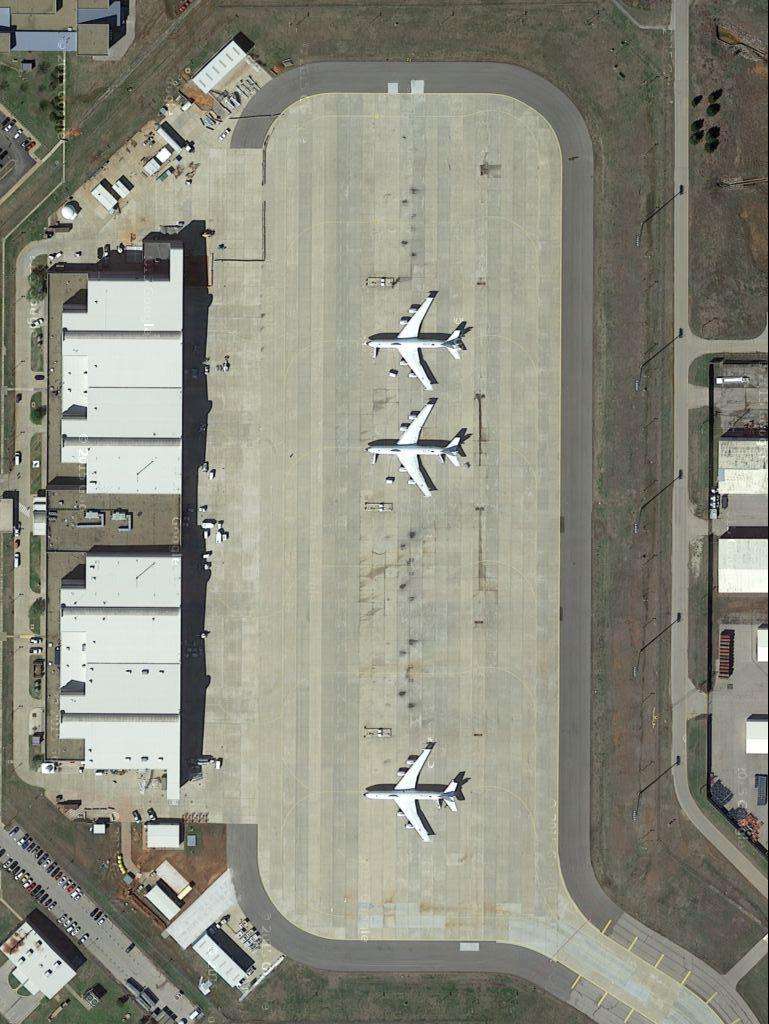E-8: (362, 740, 469, 848), (364, 395, 469, 503), (367, 293, 474, 396)
